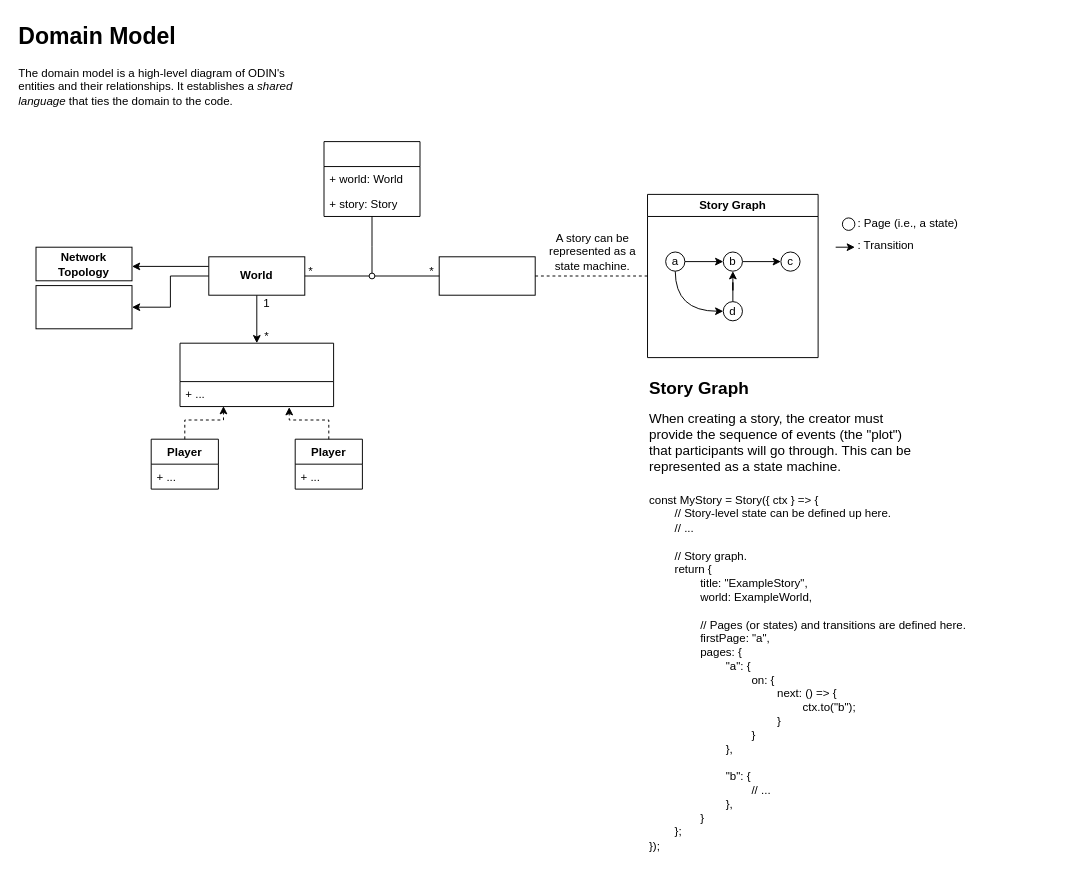
Some shapes in this 1067 by 869 pixel diagram are drawn without their labels. Here are the shapes that lost their labels. From the top down, the box of each, then its label:
(323, 141, 420, 216): Observer
(438, 256, 535, 295): Story
(35, 285, 132, 329): Participant Assignment Strategy
(179, 342, 334, 407): <<abstract>> Participant
